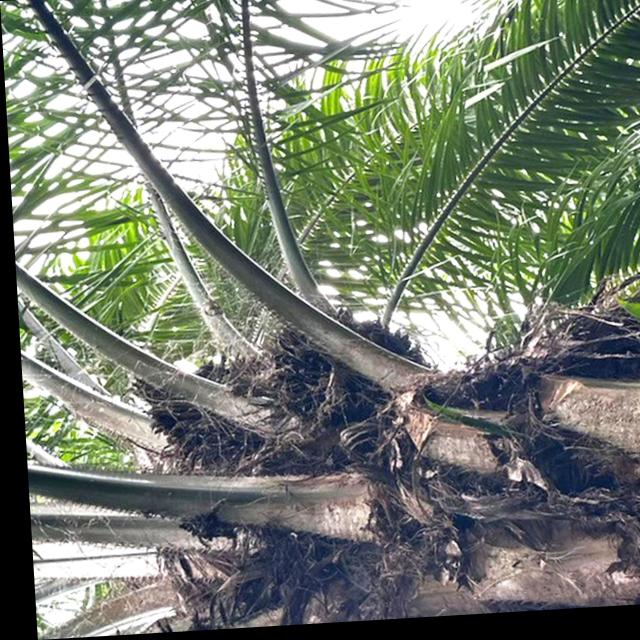almost: (125, 349, 261, 484)
unripe: (257, 308, 425, 429)
